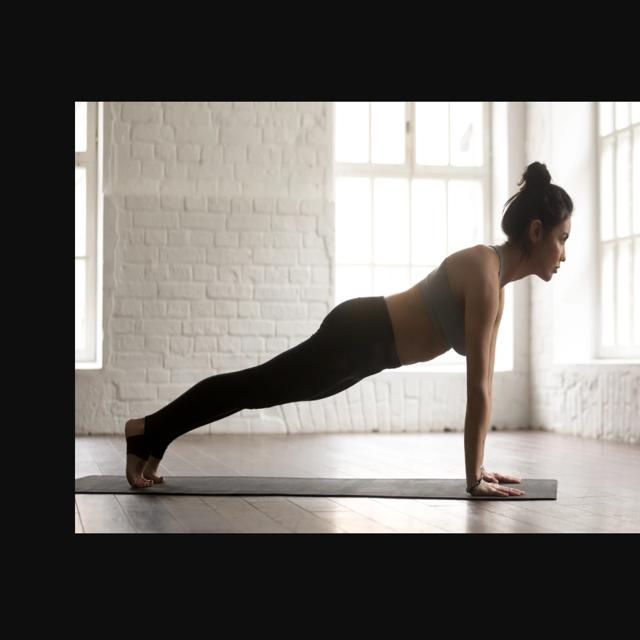Plank_Pose: (114, 152, 576, 505)
